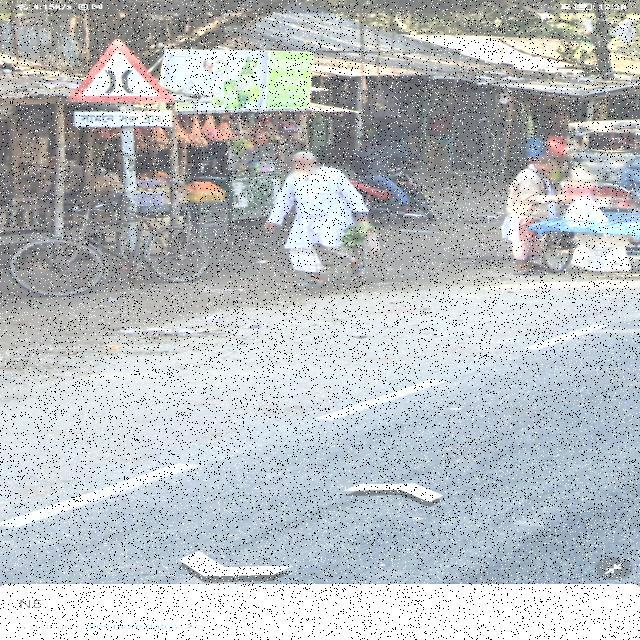Ahead-of-the-bridge: (62, 34, 179, 134)
